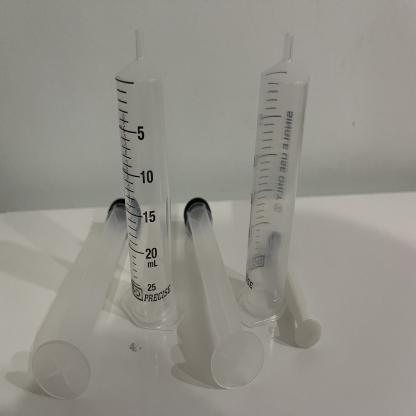dry: (106, 28, 184, 333), (250, 32, 312, 325), (52, 190, 128, 392), (180, 195, 260, 381)
